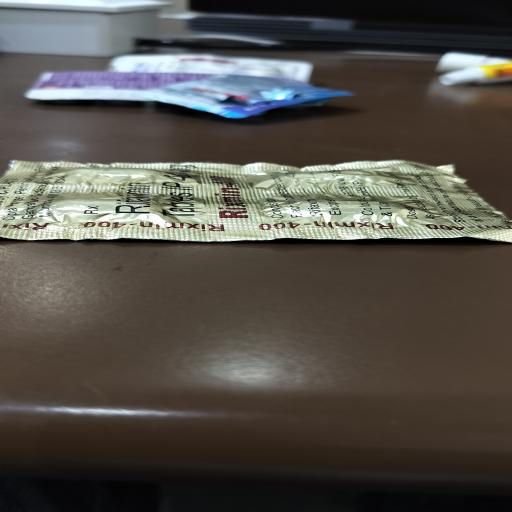medicine: (0, 158, 508, 243)
rifaximin: (109, 160, 206, 220), (78, 216, 232, 234), (256, 218, 404, 233), (415, 217, 512, 239), (0, 219, 50, 232)
